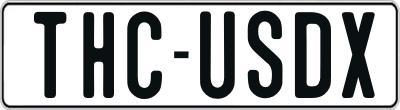C: (125, 12, 160, 102)
D: (293, 11, 332, 98)
H: (80, 9, 114, 97)
S: (248, 9, 284, 102)
T: (31, 9, 69, 98)
U: (198, 9, 234, 98)
X: (339, 9, 376, 97)
